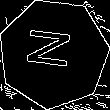N_E: (26, 31, 81, 77)
